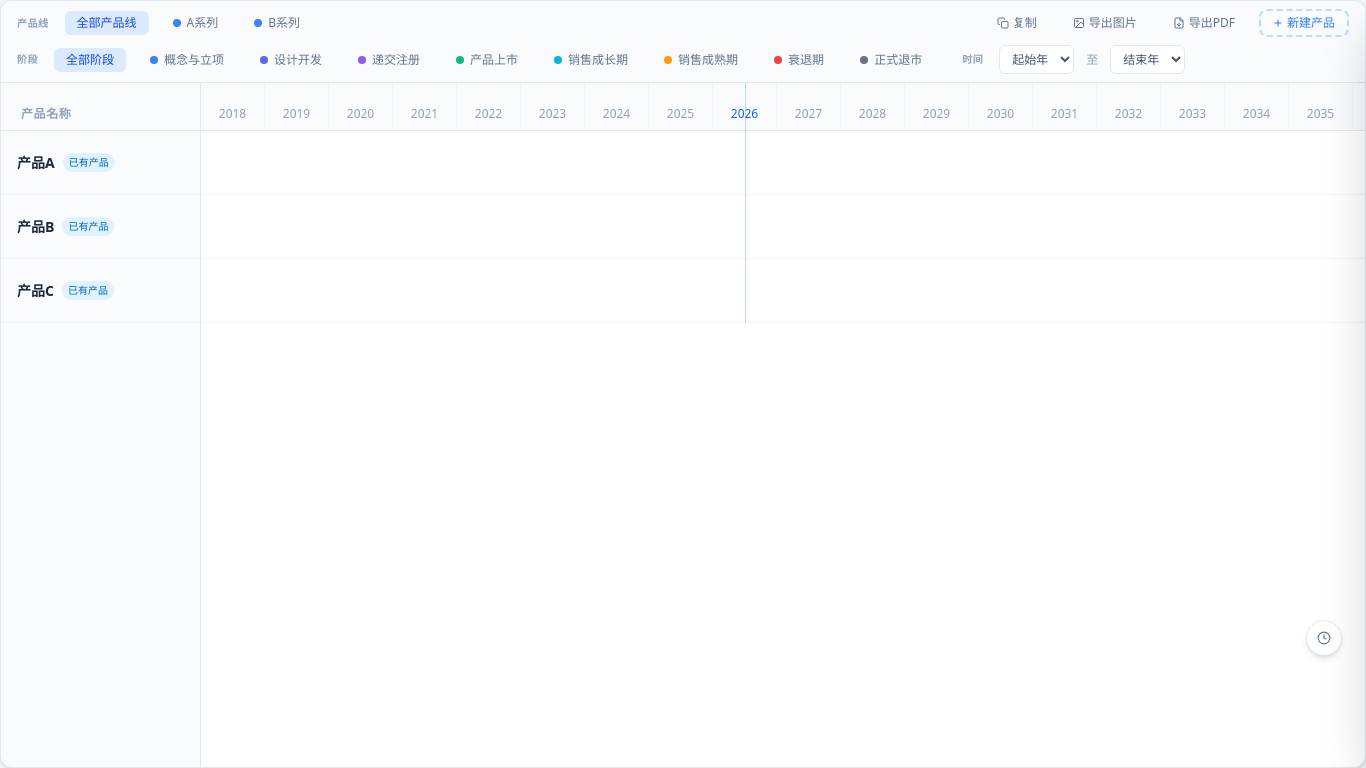
Test case: RoadmapGantt filter › product line filter › supports multi-select: shows products from both selected lines
This screenshot has width=1366, height=768.
Click the button "A系列" at x=195, y=23, box [160,11,230,35]
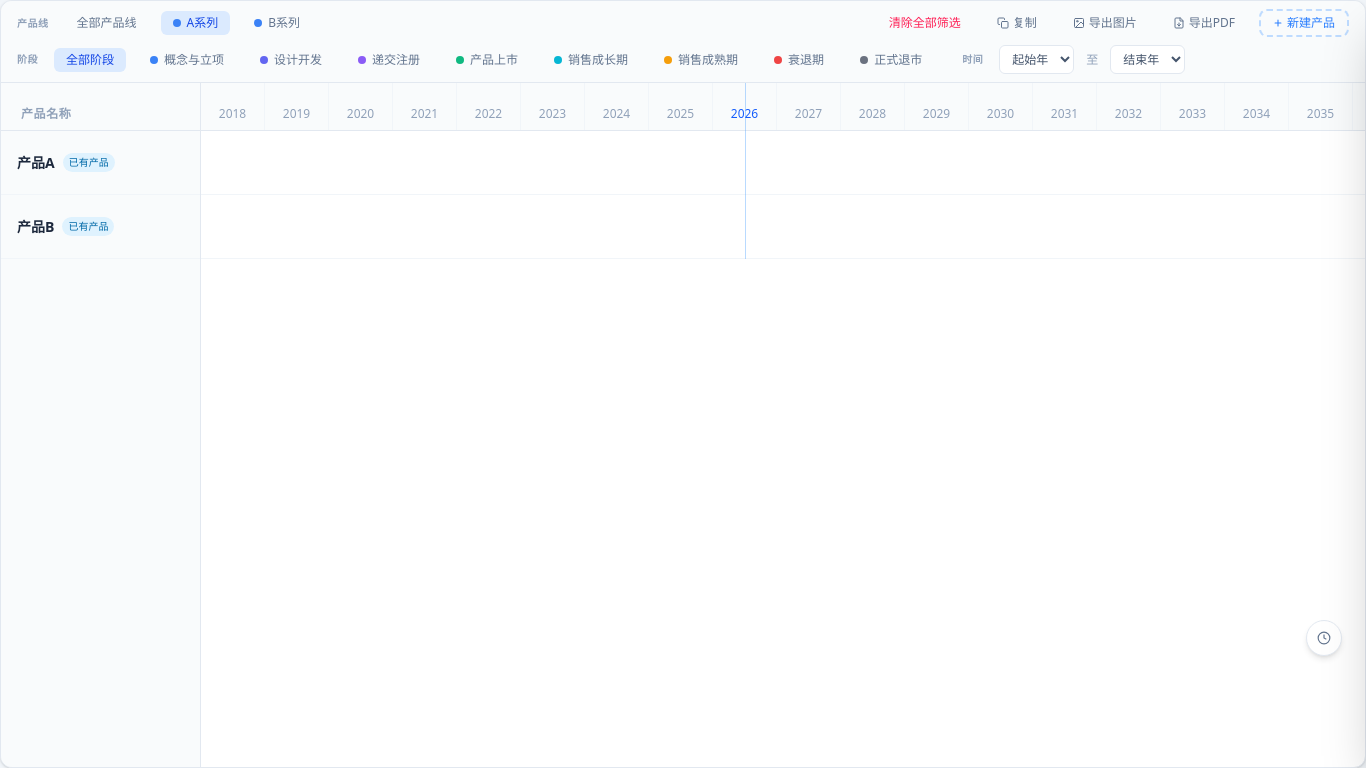
Click the button "B系列" at x=277, y=23, box [242,11,312,35]
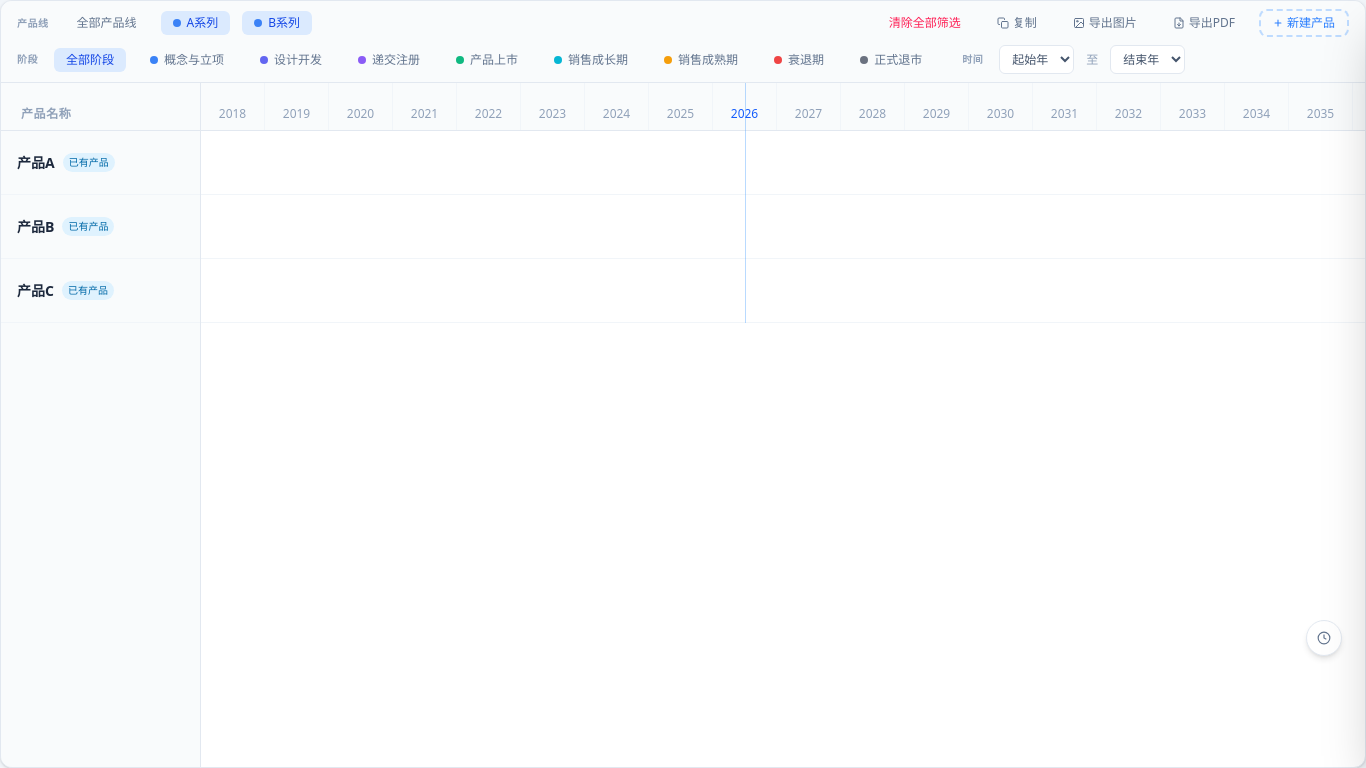
Expected: the text "产品A" is shown, [17,152,55,172]
Result: the text "产品C" is shown at [17,280,54,300]
